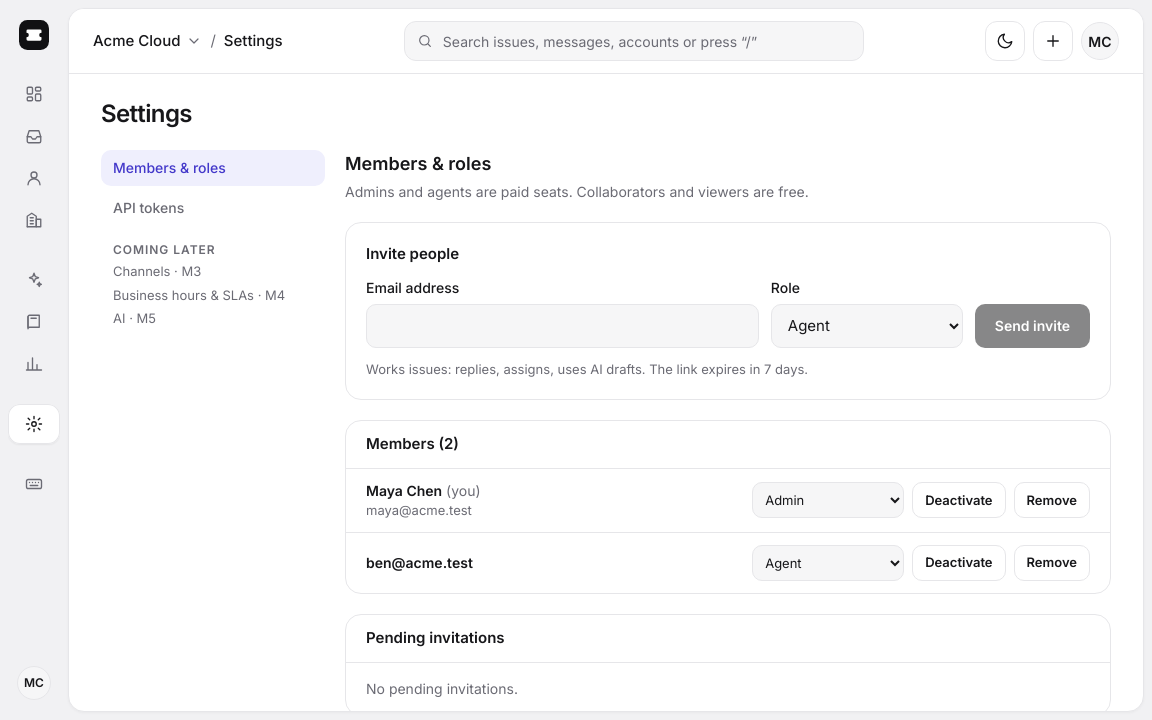
Test: settings › members (FR-1.3) › changes a role and surfaces the last-admin guard error
The image size is (1152, 720).
Step 1. Select "Viewer (free)" in the dropdown named "Role for ben@acme.test" → (828, 563), box [752,545,904,581]
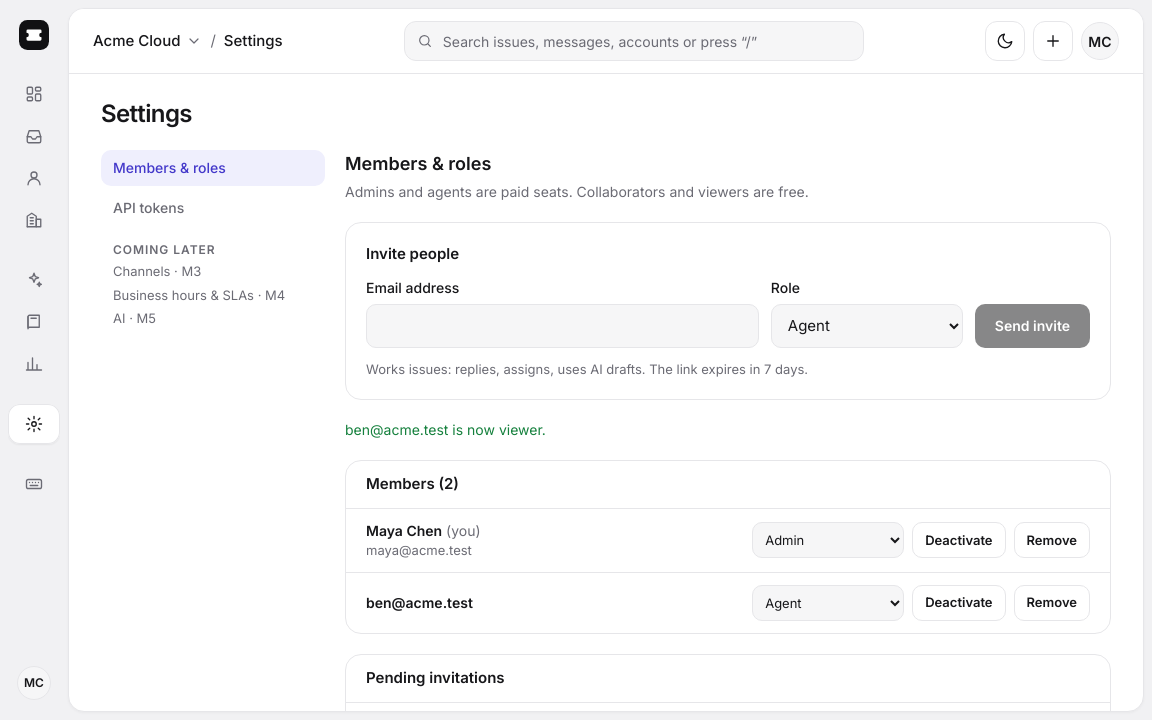
Result: the message reads "ben@acme.test is now viewer." at [345,421,546,438]
Step 2. Select "Agent" in the dropdown named "Role for Maya Chen" → (828, 540), box [752,522,904,558]
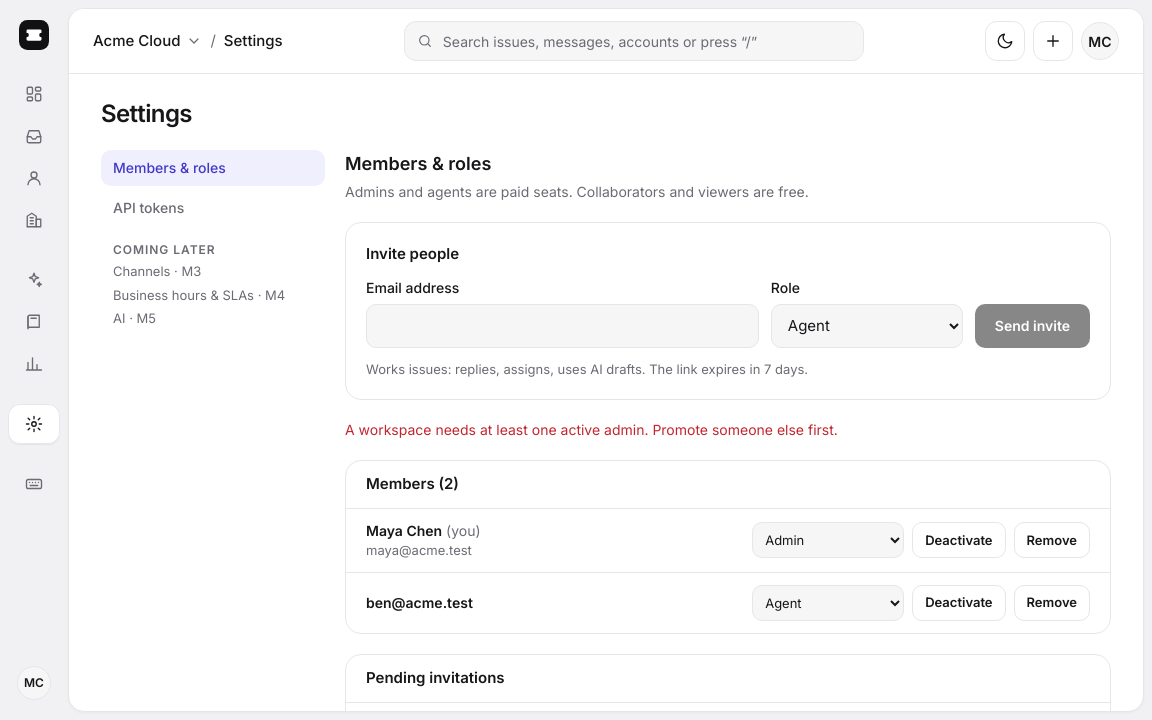
Result: the message shows "at least one active admin" at [345,421,838,438]
